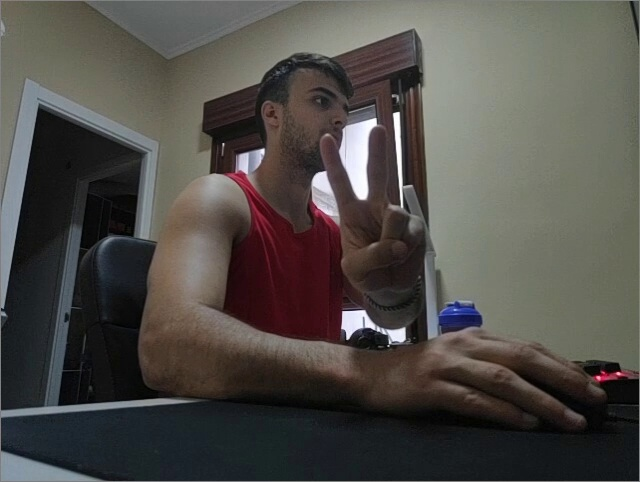Peace: (316, 124, 426, 296)
